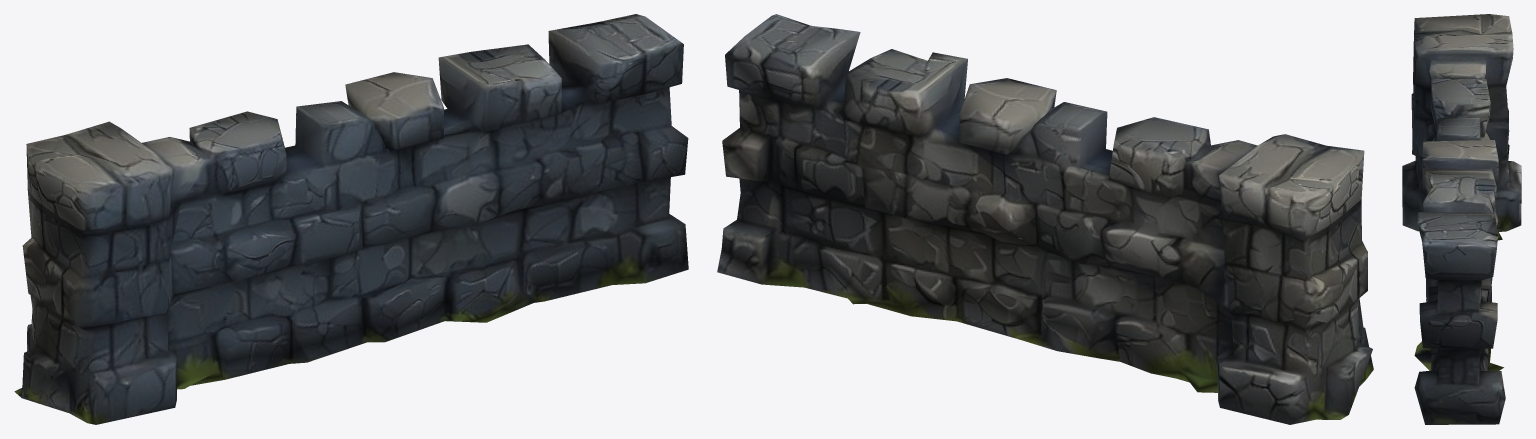
Rendered from base_wall.glb.
The picture shows the model from 3 angles, left to right: view 1: azimuth 30°, elevation 25°; view 2: azimuth 150°, elevation 25°; view 3: azimuth 270°, elevation 25°; orthographic projection. The views are drawn at different scales.
Parts seen in each view (by area): view 1: tripo_node_7b44e521-0564-4b9f-a7f3-4076f28e01b0; view 2: tripo_node_7b44e521-0564-4b9f-a7f3-4076f28e01b0; view 3: tripo_node_7b44e521-0564-4b9f-a7f3-4076f28e01b0.
Part boxes in pixels (x1=…): tripo_node_7b44e521-0564-4b9f-a7f3-4076f28e01b0: x1=14, y1=14, x2=688, y2=424; tripo_node_7b44e521-0564-4b9f-a7f3-4076f28e01b0: x1=717, y1=14, x2=1373, y2=424; tripo_node_7b44e521-0564-4b9f-a7f3-4076f28e01b0: x1=1402, y1=14, x2=1521, y2=424.
Size of the model in its own units: 2.5 by 0.8914 by 0.531.
Materials: 1 (1 with a texture image).
